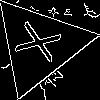X: (14, 20, 72, 67)
